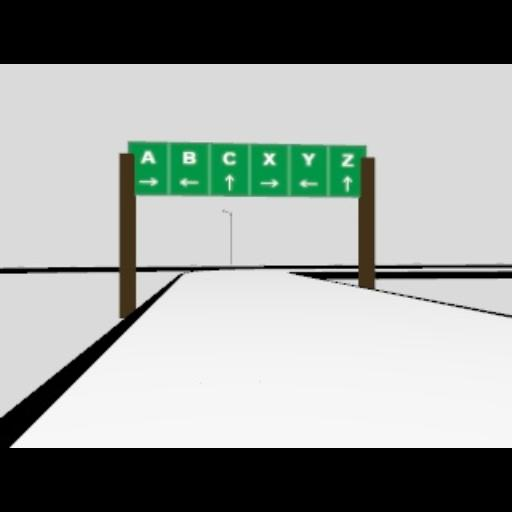A: (139, 149, 155, 163)
B: (181, 150, 195, 164)
C: (221, 151, 237, 165)
Left: (298, 177, 318, 187), (178, 178, 198, 186)
Right: (258, 177, 280, 187), (138, 176, 158, 186)
Straight: (342, 174, 352, 190), (224, 173, 234, 189)
X: (262, 152, 276, 164)
Y: (299, 150, 315, 166)
Z: (341, 152, 355, 166)
